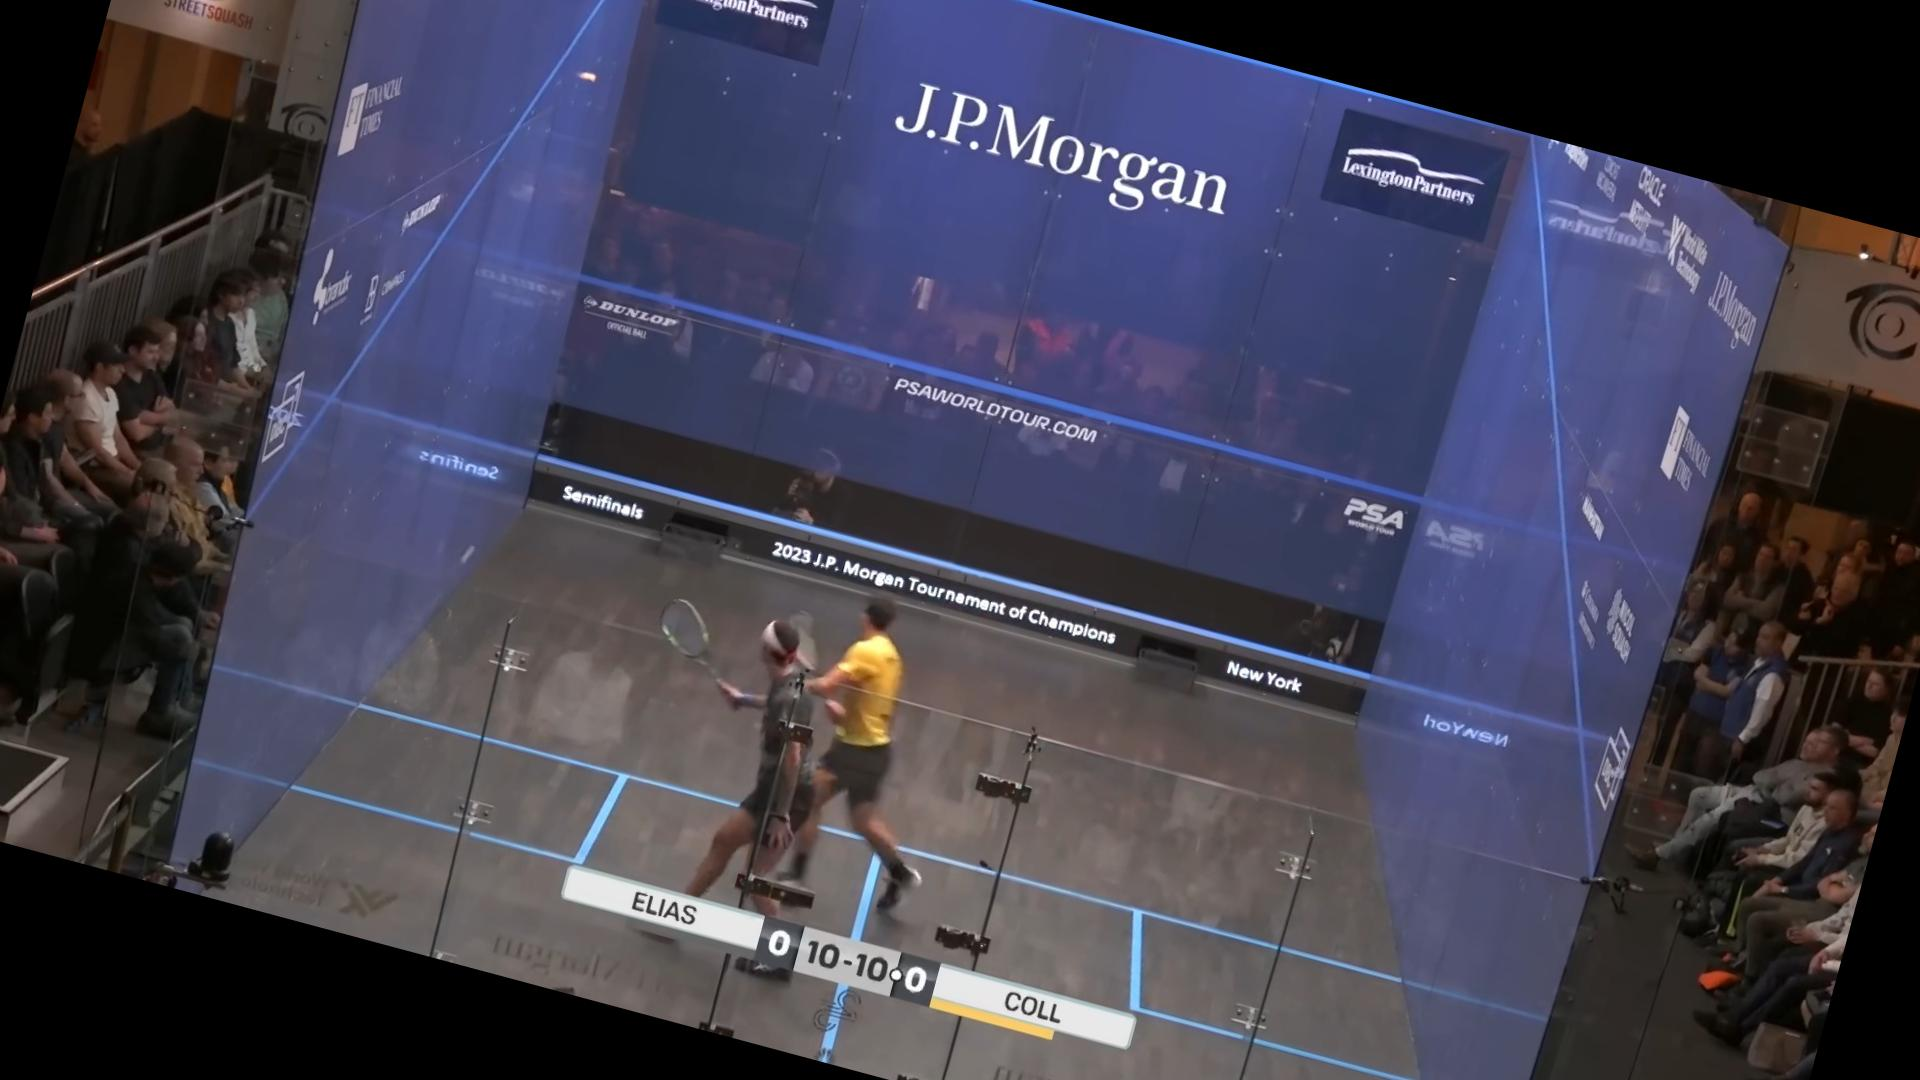Racket: (640, 579, 758, 698)
